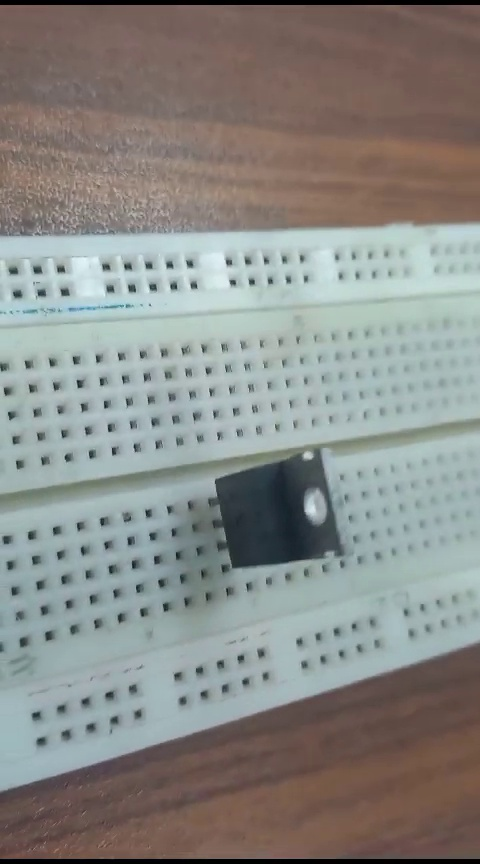voltage regulator: (189, 456, 349, 581)
